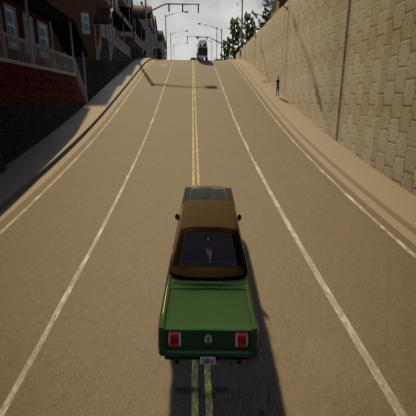Cars: (157, 158, 265, 384), (186, 29, 220, 70)
Pedestrian: (272, 59, 286, 102)
